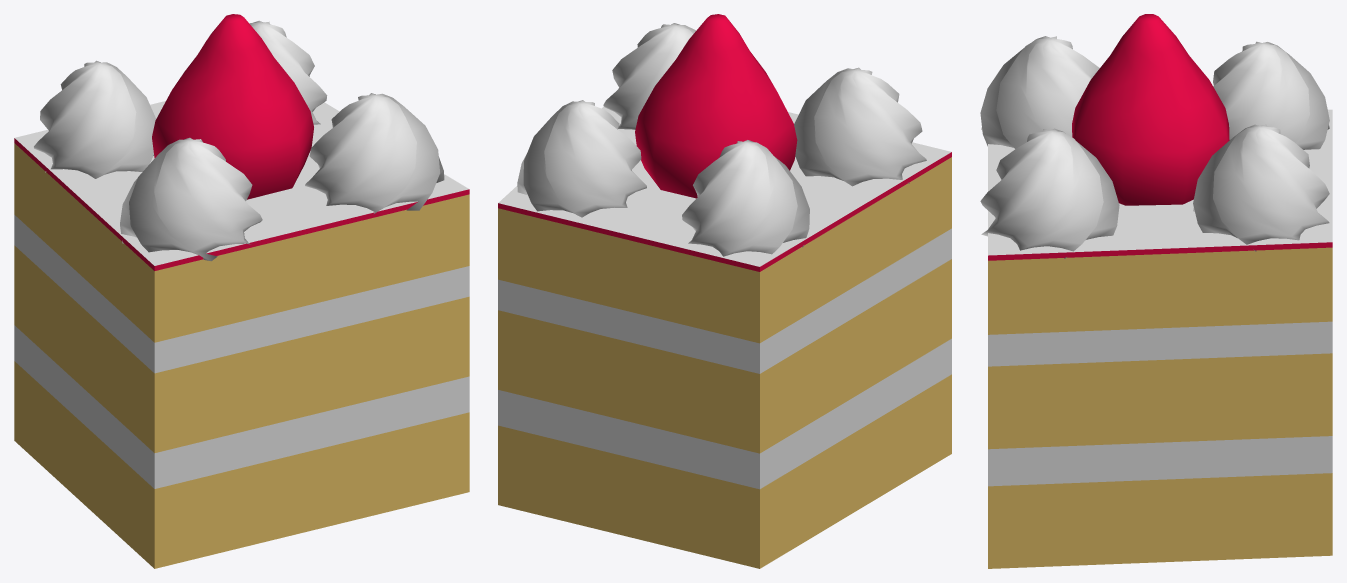
Rendered from AroundCake.fbx.
The picture shows the model from 3 angles, left to right: view 1: azimuth 30°, elevation 25°; view 2: azimuth 150°, elevation 25°; view 3: azimuth 270°, elevation 25°; orthographic projection. The views are drawn at different scales.
Parts seen in each view (by area): view 1: RoundCake; view 2: RoundCake; view 3: RoundCake.
Part boxes in pixels (x1,y1,x2,y2): RoundCake: [14, 14, 469, 568]; RoundCake: [498, 14, 951, 568]; RoundCake: [980, 14, 1332, 568].
Size of the model in its own units: 11.2 by 15.47 by 10.47.
